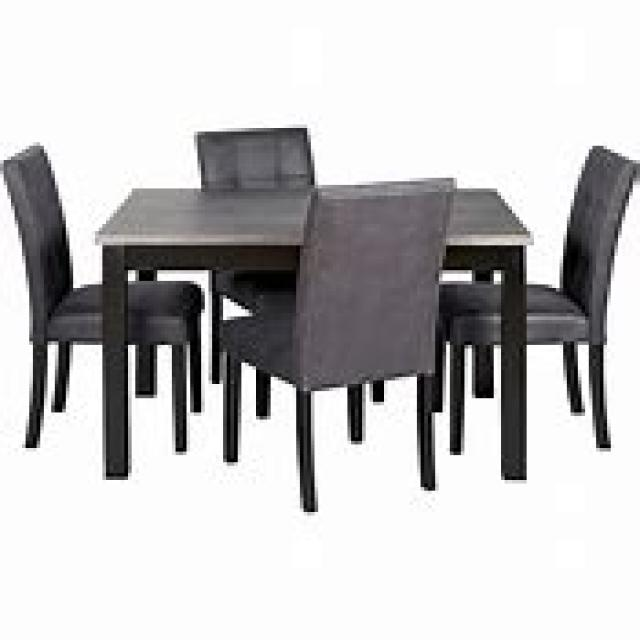chair: (0, 142, 201, 462), (439, 142, 636, 466)
table: (91, 182, 534, 484)
